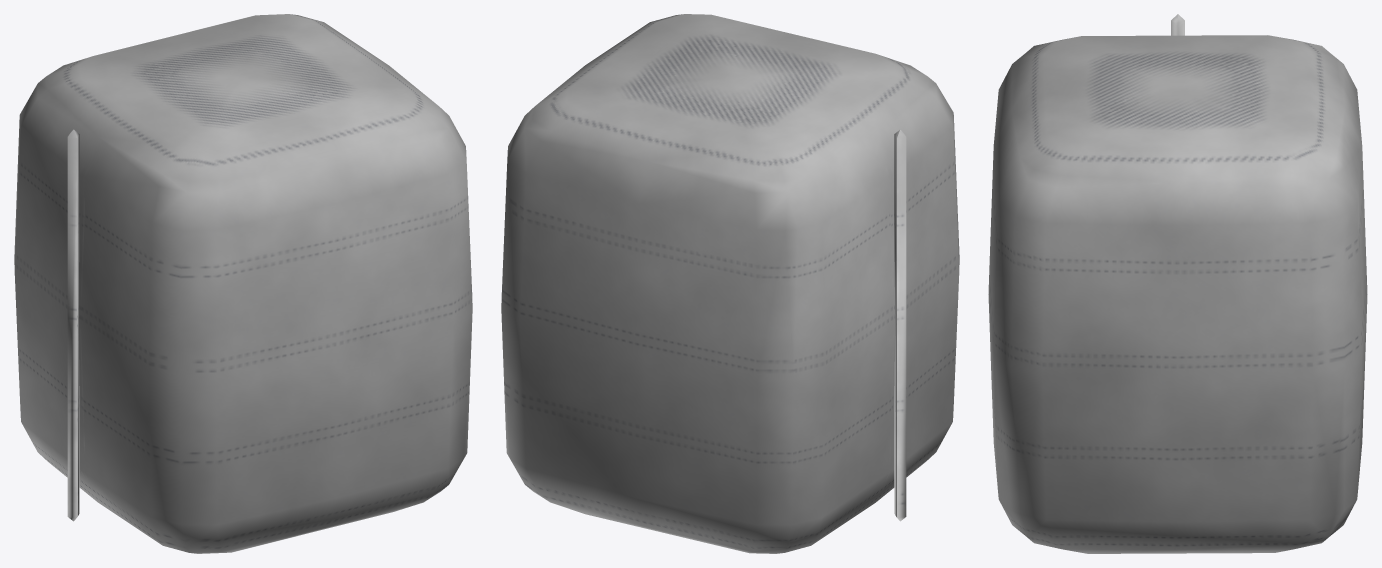
Rendered from RightUpperLeg_C1.fbx.
The picture shows the model from 3 angles, left to right: view 1: azimuth 30°, elevation 25°; view 2: azimuth 150°, elevation 25°; view 3: azimuth 270°, elevation 25°; orthographic projection.
Parts seen in each view (by area): view 1: Civ_Jean_RightUpperLeg_C1; view 2: Civ_Jean_RightUpperLeg_C1; view 3: Civ_Jean_RightUpperLeg_C1.
Part boxes in pixels (x1=…): Civ_Jean_RightUpperLeg_C1: x1=14, y1=14, x2=472, y2=553; Civ_Jean_RightUpperLeg_C1: x1=501, y1=14, x2=959, y2=553; Civ_Jean_RightUpperLeg_C1: x1=988, y1=14, x2=1367, y2=553.
Bounding box in the file's own units: 1.24 × 1.43 × 1.19.
